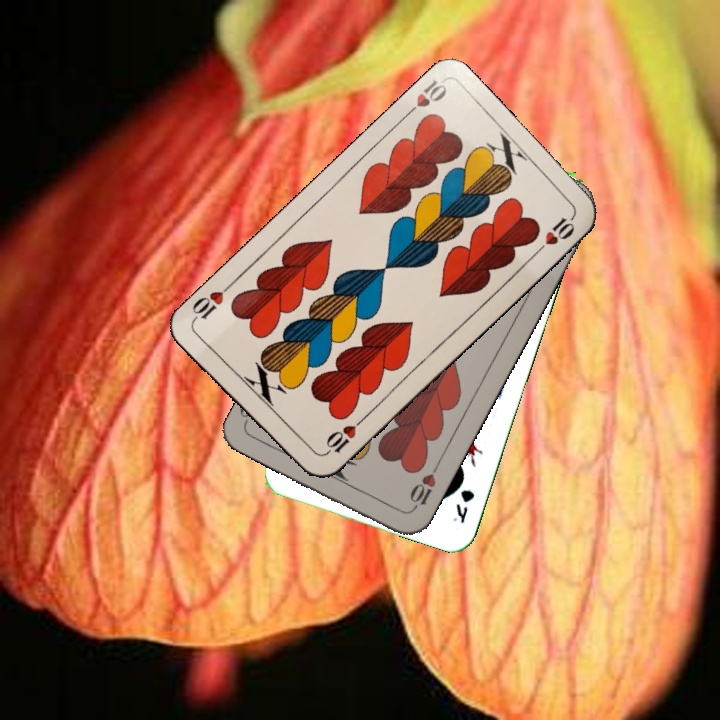GK: (449, 485, 477, 526)
H10: (399, 75, 450, 122), (319, 414, 367, 459), (405, 461, 441, 515)
